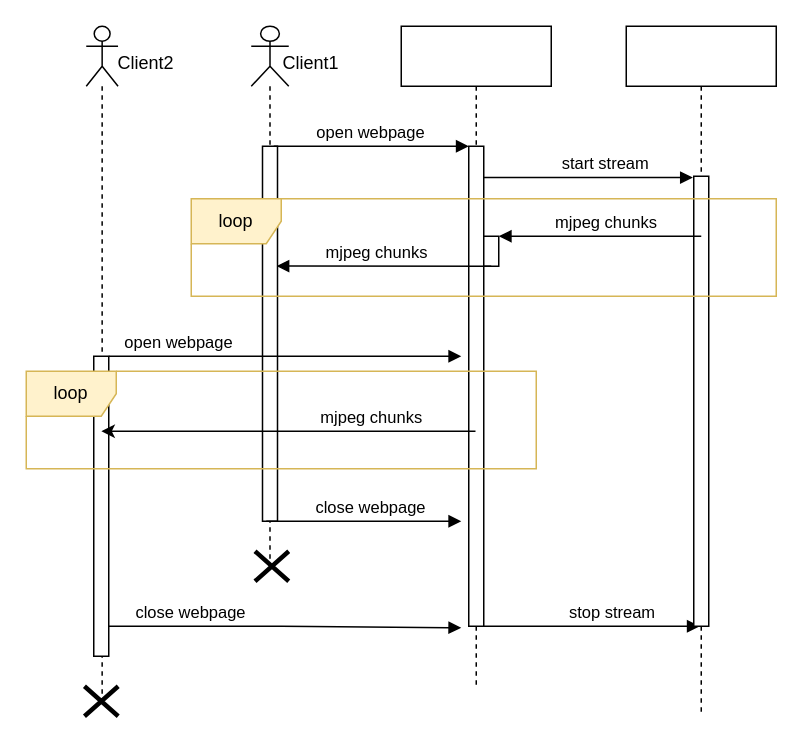
The diagram is 803 pixels wide and 744 high, and some of its shapes have lost their labels. The shapes that lost their labels are listed below. From the top down, each one's box as (x1, y1, x2, y2) in pixels, then its label:
(400, 25, 551, 686): Flask Webserver
(625, 25, 776, 716): ESP32-CAM Webserver
